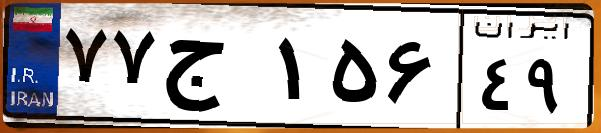1: (270, 28, 330, 110)
4: (475, 38, 525, 113)
5: (330, 28, 385, 110)
6: (385, 28, 445, 110)
7: (57, 26, 110, 100), (110, 28, 158, 98)
9: (525, 38, 570, 115)
ج: (158, 20, 270, 120)
